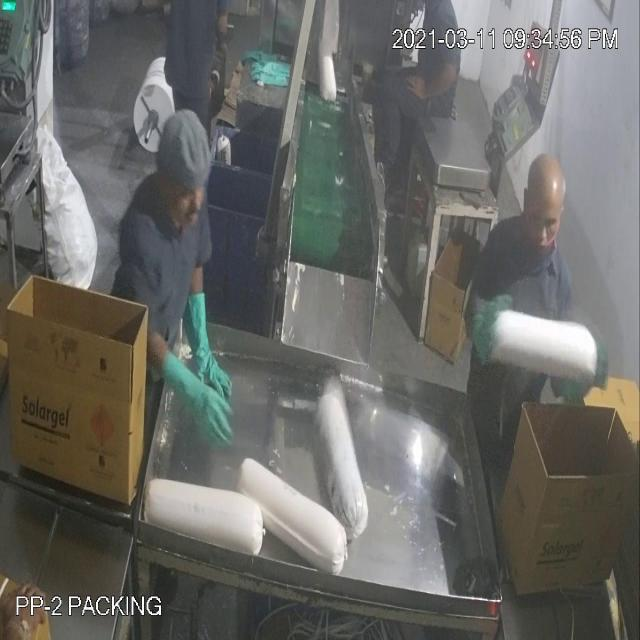Gloves: (64, 68, 437, 396)
